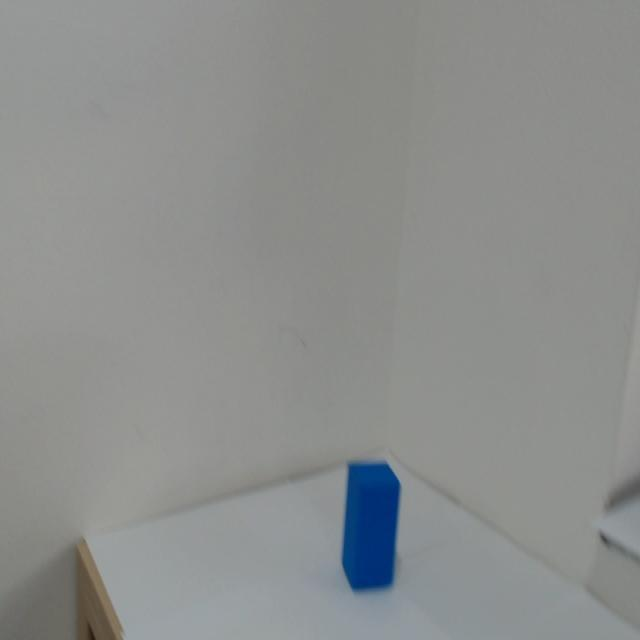cube: (319, 417, 388, 595)
